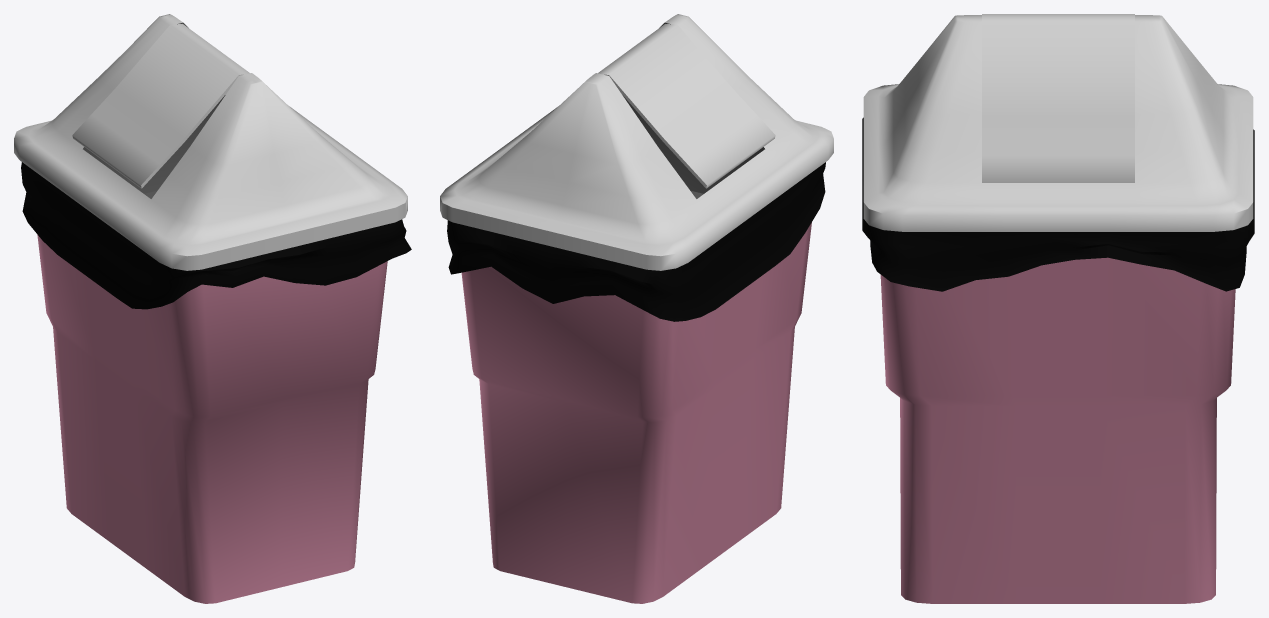
File: CuboBasuraBaño.fbx
The picture shows the model from 3 angles, left to right: view 1: azimuth 30°, elevation 25°; view 2: azimuth 150°, elevation 25°; view 3: azimuth 270°, elevation 25°; orthographic projection. The views are drawn at different scales.
Visible parts, largest first — view 1: TapaPapelera; view 2: TapaPapelera; view 3: TapaPapelera.
Boxes of the visible parts, <box> form: TapaPapelera: <box>14,14,411,603</box>; TapaPapelera: <box>440,14,833,603</box>; TapaPapelera: <box>862,14,1254,603</box>.
Size of the model in its own units: 43.86 by 82.68 by 54.29.
